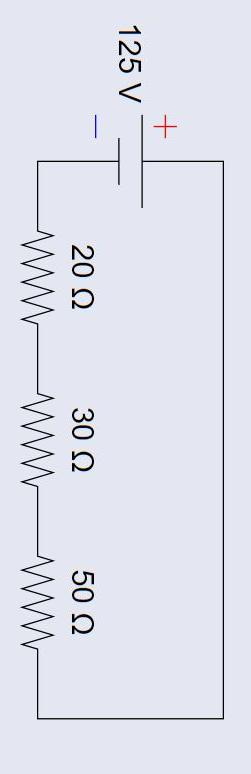resistor: (3, 540, 62, 691), (1, 220, 68, 333), (11, 362, 60, 492)
